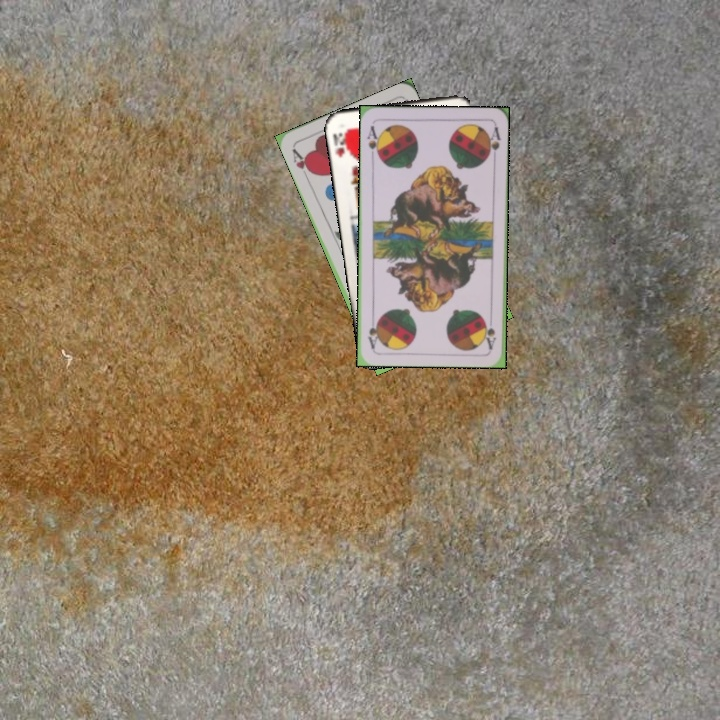HA: (288, 144, 315, 183)
HK: (329, 125, 352, 160)
SA: (363, 122, 383, 161), (481, 311, 498, 351)
